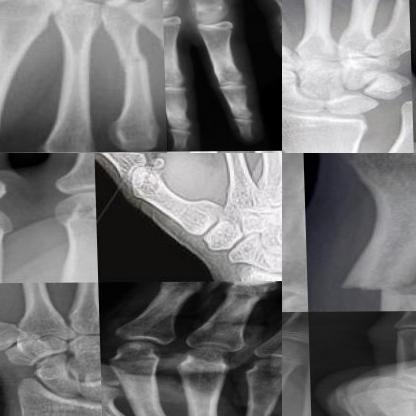fracture: (332, 255, 415, 311), (282, 164, 306, 278), (110, 42, 152, 78), (370, 378, 415, 407)
